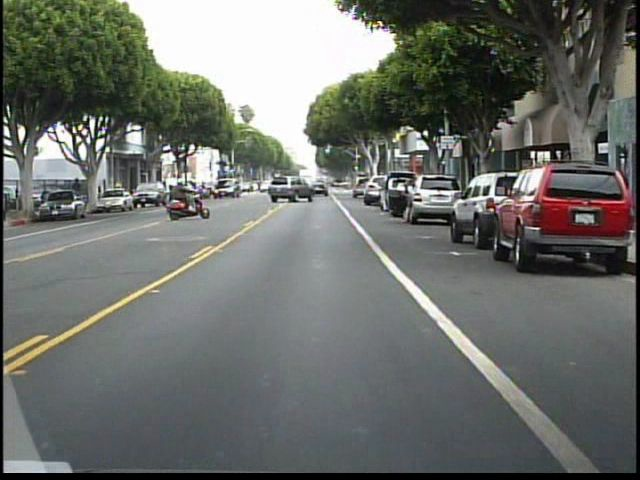person: (162, 177, 189, 216), (70, 173, 87, 211)
